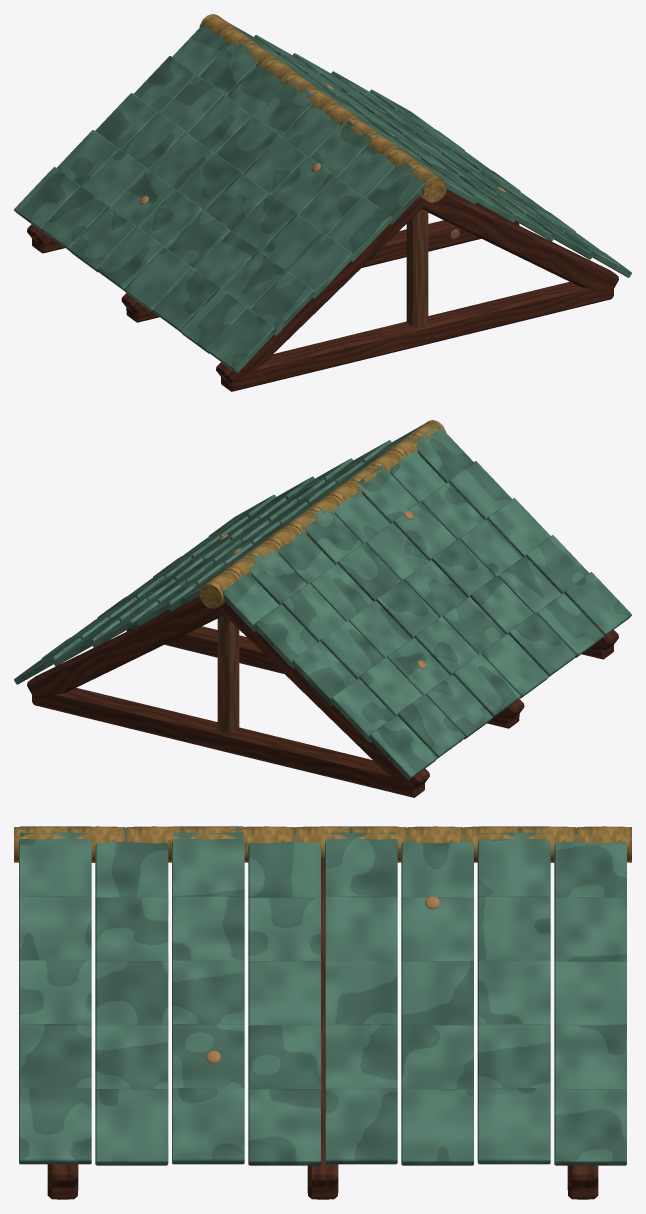
3 views of the same model, one above another, from view 1: azimuth 30°, elevation 25°; view 2: azimuth 150°, elevation 25°; view 3: azimuth 270°, elevation 25° (orthographic). The views are drawn at different scales.
Visible parts, largest first — view 1: verdigris-bronze-roofing, quarter-sawn-timber, aged-bronze, exposed-end-grain; view 2: verdigris-bronze-roofing, quarter-sawn-timber, aged-bronze, exposed-end-grain; view 3: verdigris-bronze-roofing, aged-bronze, quarter-sawn-timber.
Part boxes in pixels (left/top/right/bottom): verdigris-bronze-roofing: left=14, top=22, right=631, bottom=373; quarter-sawn-timber: left=27, top=189, right=618, bottom=391; aged-bronze: left=199, top=14, right=446, bottom=202; exposed-end-grain: left=406, top=209, right=428, bottom=327; verdigris-bronze-roofing: left=14, top=422, right=631, bottom=779; quarter-sawn-timber: left=27, top=596, right=618, bottom=797; aged-bronze: left=199, top=420, right=446, bottom=608; exposed-end-grain: left=217, top=615, right=239, bottom=733; verdigris-bronze-roofing: left=19, top=826, right=626, bottom=1165; aged-bronze: left=14, top=826, right=631, bottom=862; quarter-sawn-timber: left=47, top=860, right=598, bottom=1199.
Size of the model in its own units: 2.07 by 0.88 by 2.02.
Materials: 6 (4 with a texture image).
